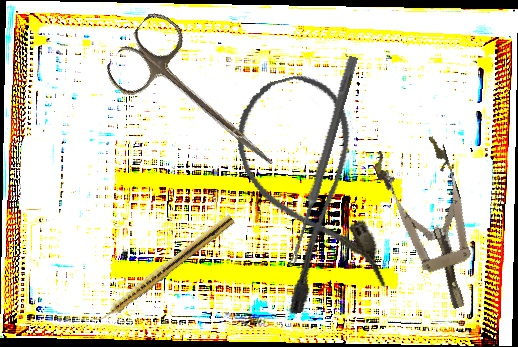Cannula: (223, 65, 393, 318)
Handpiece: (91, 210, 236, 329)
Iris Scissors: (99, 6, 303, 195)
Speculum: (370, 131, 493, 320)
Surgical Spoon: (287, 55, 359, 266)
